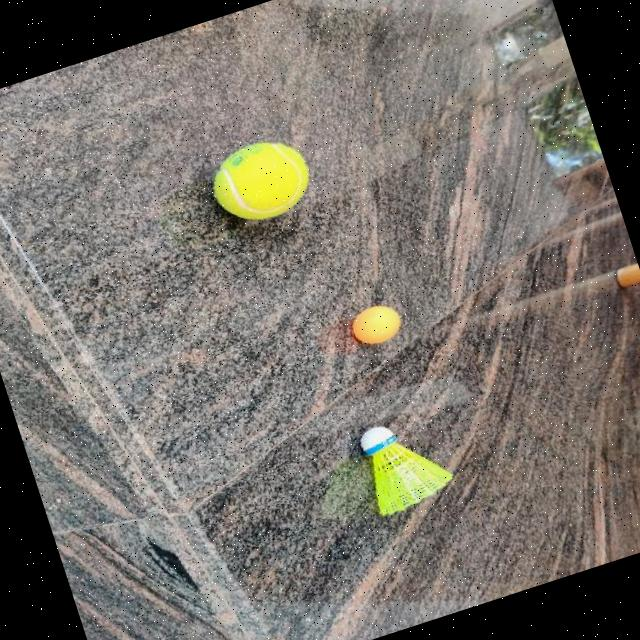ping-pong-ball: (348, 299, 408, 349)
